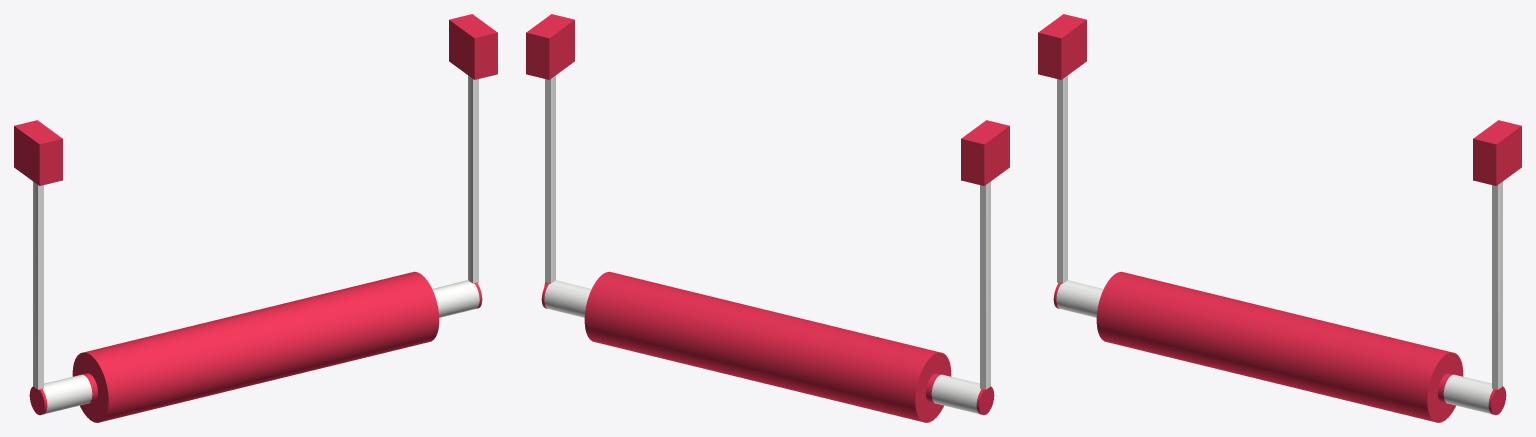
File: DurdaneObstacle.fbx
The picture shows the model from 3 angles, left to right: view 1: azimuth 30°, elevation 25°; view 2: azimuth 150°, elevation 25°; view 3: azimuth 330°, elevation 25°; orthographic projection.
Visible parts, largest first — view 1: Cylinder.004; view 2: Cylinder.004; view 3: Cylinder.004.
Part boxes in pixels (bbox=[...]): Cylinder.004: bbox=[14, 14, 497, 422]; Cylinder.004: bbox=[526, 14, 1009, 422]; Cylinder.004: bbox=[1038, 14, 1521, 422].
Bounding box in the file's own units: 215 × 135 × 29.31.
Materials: 2 (2 with a texture image).
